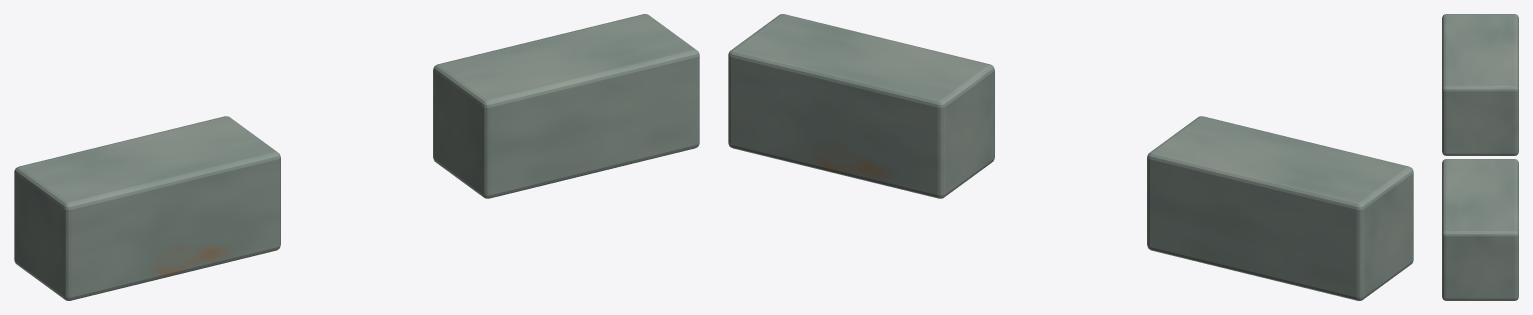
File: Yoke.glb
3 renders of one model, left to right at view 1: azimuth 30°, elevation 25°; view 2: azimuth 150°, elevation 25°; view 3: azimuth 270°, elevation 25°, orthographic. The views are drawn at different scales.
Visible parts, largest first — view 1: Yoke; view 2: Yoke; view 3: Yoke.
Boxes of the visible parts, x1=… form: Yoke: x1=14, y1=14, x2=699, y2=300; Yoke: x1=728, y1=14, x2=1413, y2=300; Yoke: x1=1442, y1=14, x2=1518, y2=300.
Bounding box in the file's own units: 4.4 × 0.65 × 0.65.
1 material, 1 textured.
